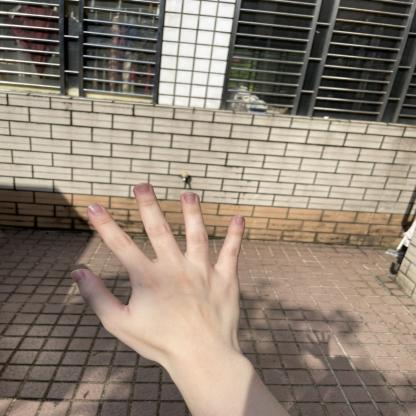bare_hand: (62, 176, 269, 376)
